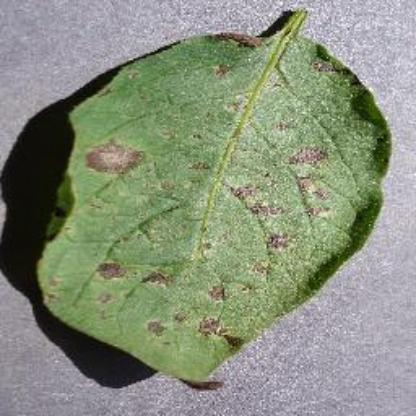Early-Blight: (33, 7, 400, 395)
